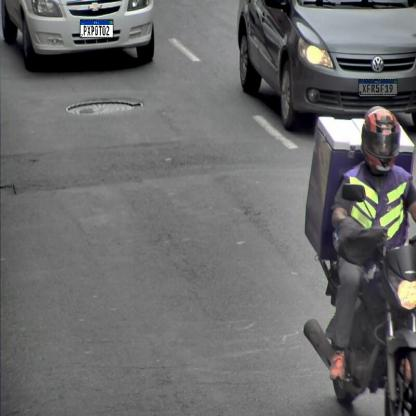PlacaM: (358, 79, 398, 95), (80, 20, 113, 38)
